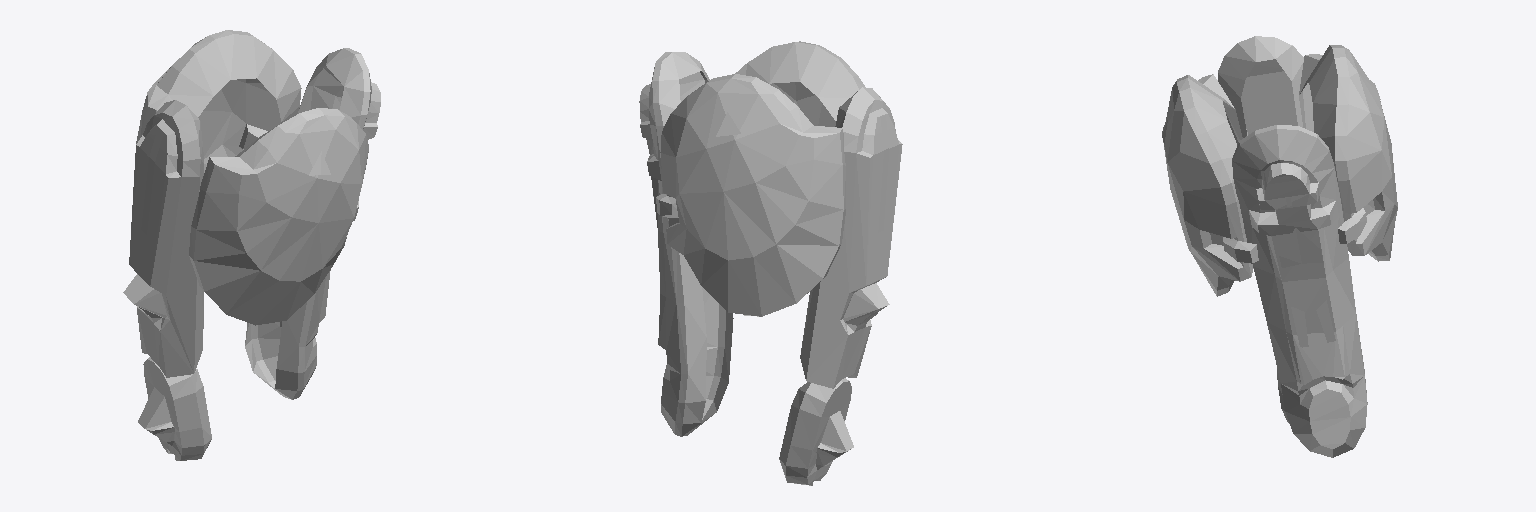
The model's file is XG89 Narrow Legs Right Shin MALE.obj.
The picture shows the model from 3 angles: view 1: azimuth 30°, elevation 25°; view 2: azimuth 150°, elevation 25°; view 3: azimuth 270°, elevation 25°; orthographic projection.
Visible parts, largest first — view 1: armor_legs_stealth; view 2: armor_legs_stealth; view 3: armor_legs_stealth.
Part boxes in pixels (bbox=[...]): armor_legs_stealth: bbox=[123, 30, 380, 460]; armor_legs_stealth: bbox=[639, 41, 902, 485]; armor_legs_stealth: bbox=[1162, 36, 1397, 457].
Bounding box in the file's own units: 9.7 × 15.32 × 8.14.